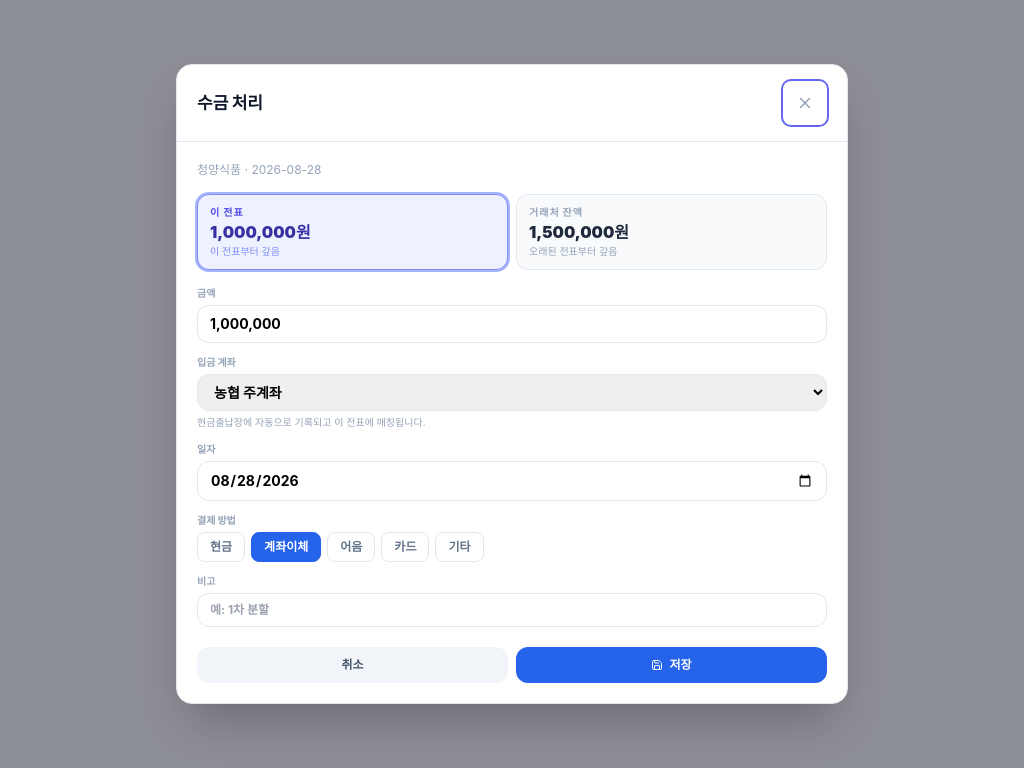
Test: 수금·지불 — 전표에서 연다 › '거래처 잔액'을 누르면 금액이 바뀌고 **날짜는 안 바뀐다**
Expected: the date field holds "2026-08-28", [197,461,827,501]
Click the text "거래처 잔액" at (556, 212), box [529,206,583,218]
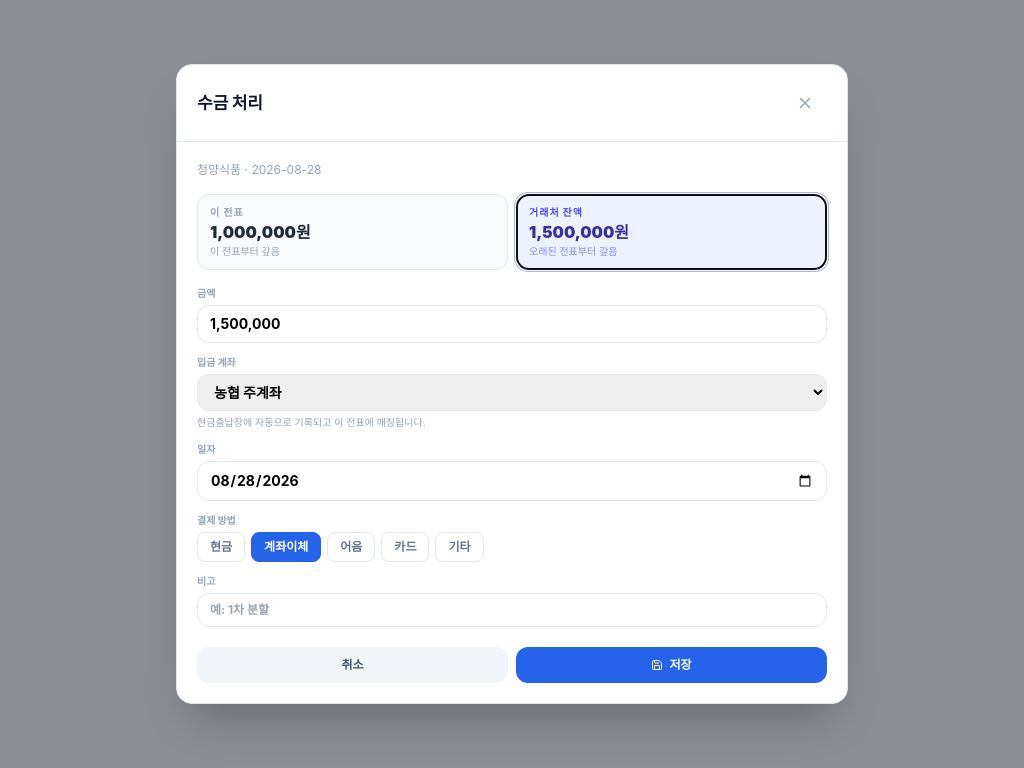
Expected: the date field holds "2026-08-28", [197,461,827,501]
Expected: the 1st field holds "1,500,000", [197,305,827,343]
